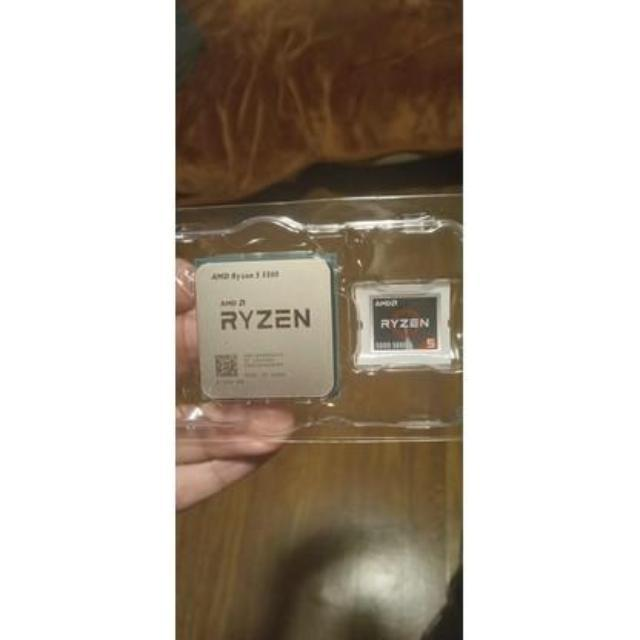CPU: (196, 262, 336, 400)
